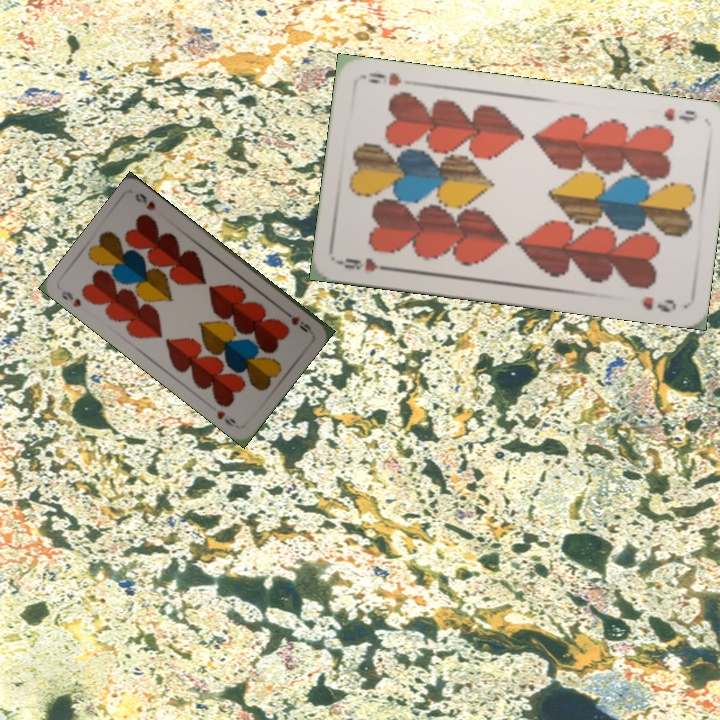H9: (336, 253, 395, 274), (279, 306, 314, 335), (659, 103, 701, 124), (57, 287, 84, 310)
